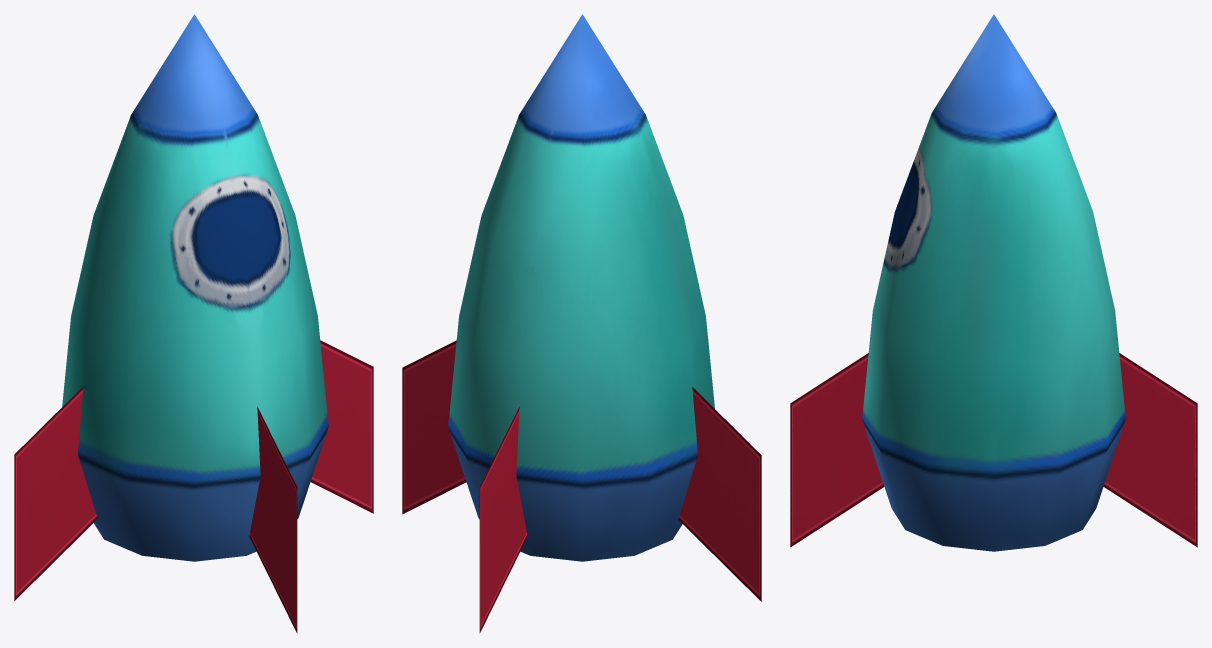
Rendered from huojian.FBX.
3 views of the same model, side by side, from view 1: azimuth 30°, elevation 25°; view 2: azimuth 150°, elevation 25°; view 3: azimuth 270°, elevation 25° (orthographic).
Visible parts, largest first — view 1: Object19; view 2: Object19; view 3: Object19.
Part boxes in pixels (x1=…): Object19: x1=14, y1=14, x2=373, y2=633; Object19: x1=402, y1=14, x2=761, y2=633; Object19: x1=790, y1=14, x2=1197, y2=551.
Size of the model in its own units: 11.6 by 11.6 by 16.79.
Materials: 1 (1 with a texture image).
